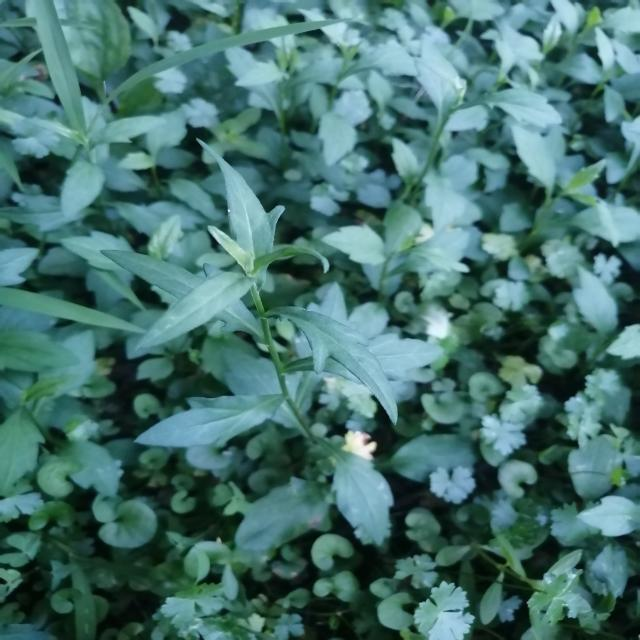Indian aster: (106, 187, 419, 468)
